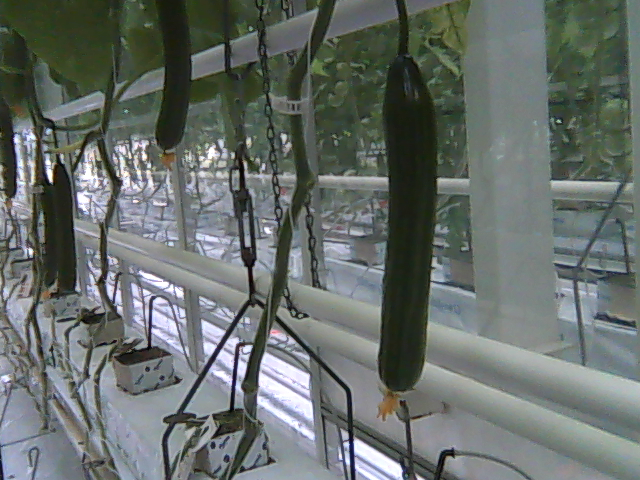concombre: (372, 41, 442, 422), (153, 1, 196, 175)
